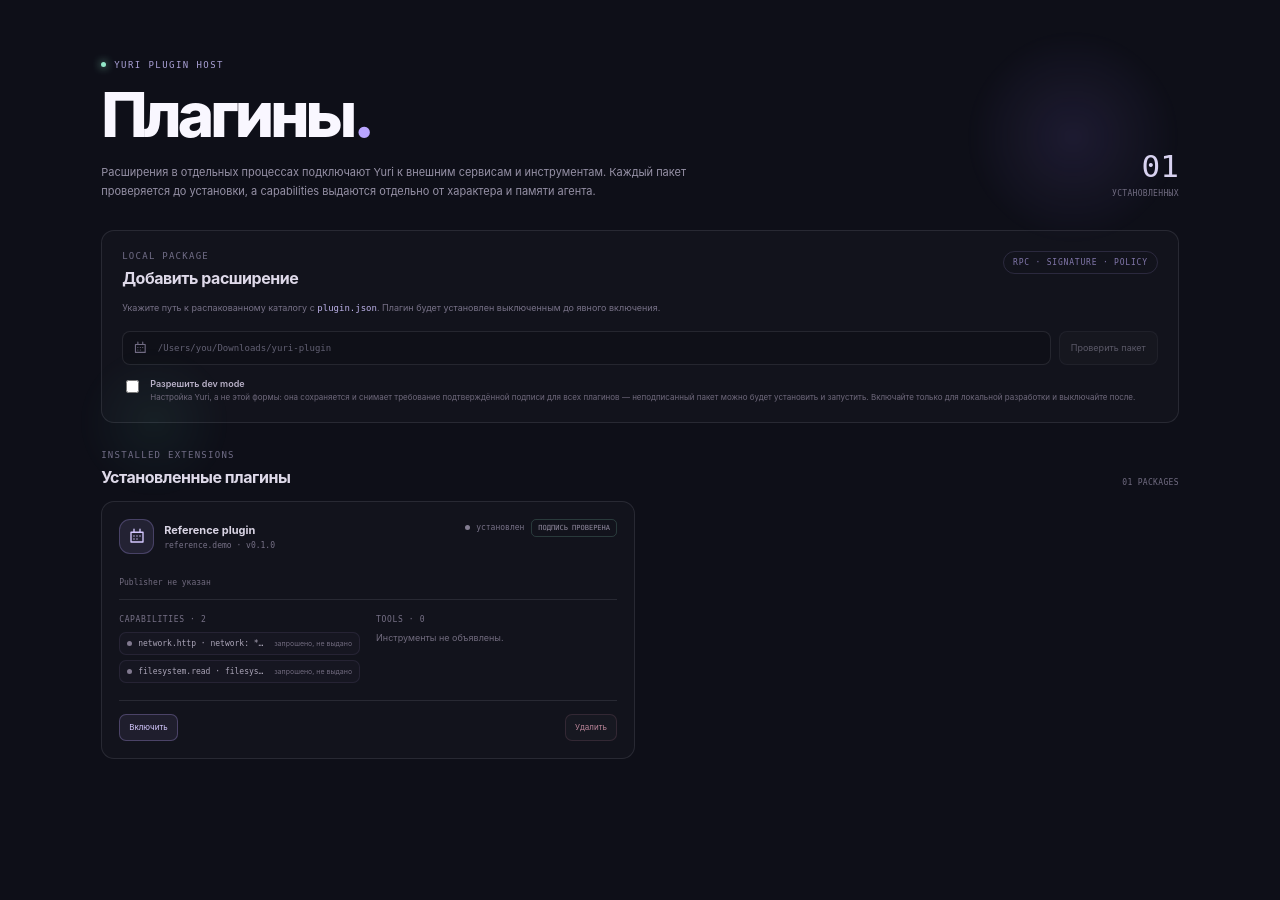
PluginView dev mode › persists the decision and re-checks the reviewed package against it
This screenshot has width=1280, height=900.
In the field named "Путь к пакету": (598, 348) 156,342 -> 1040,354, type "/tmp/reference-plugin"
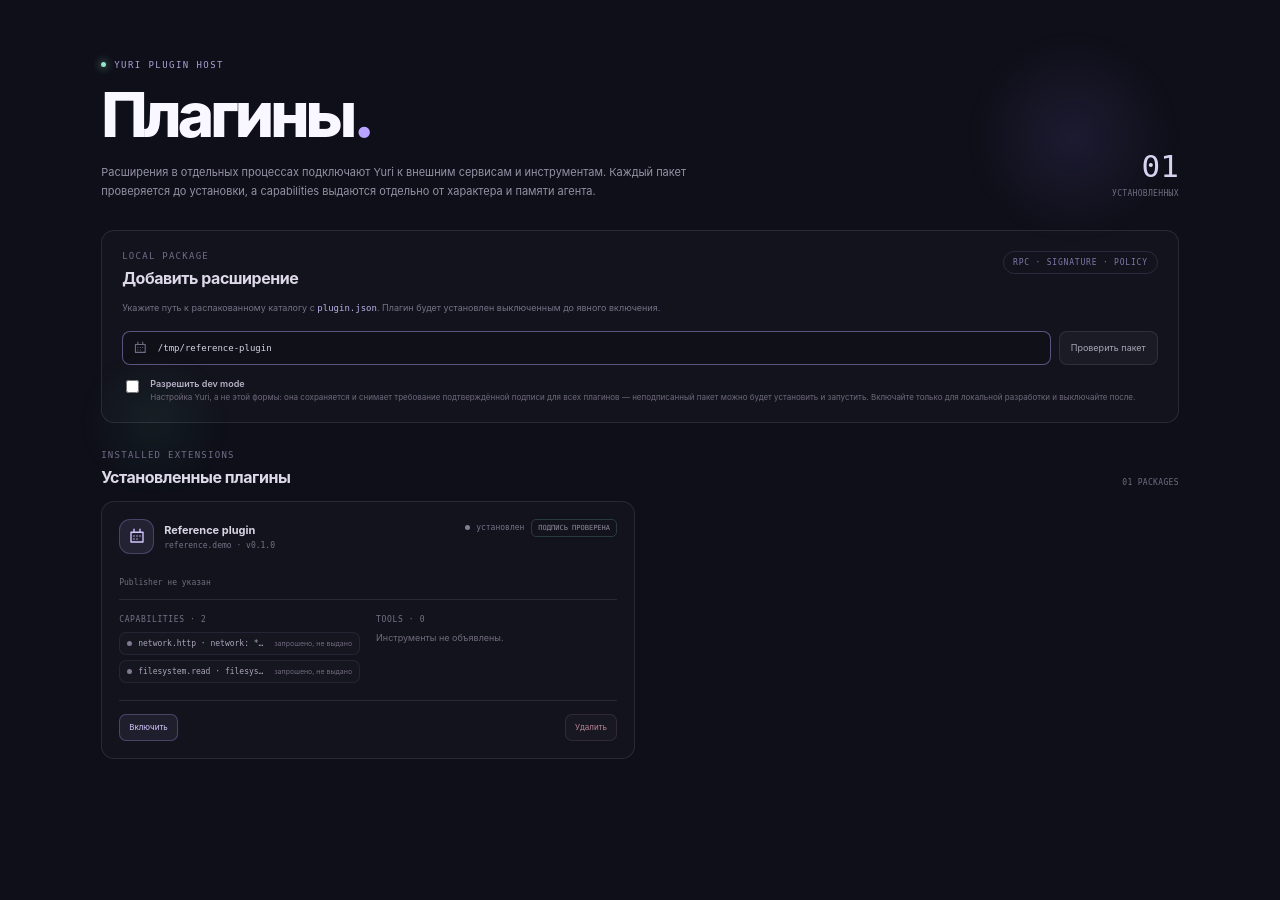
Click the button "Проверить пакет": (1108, 348) 1059,331 -> 1158,365
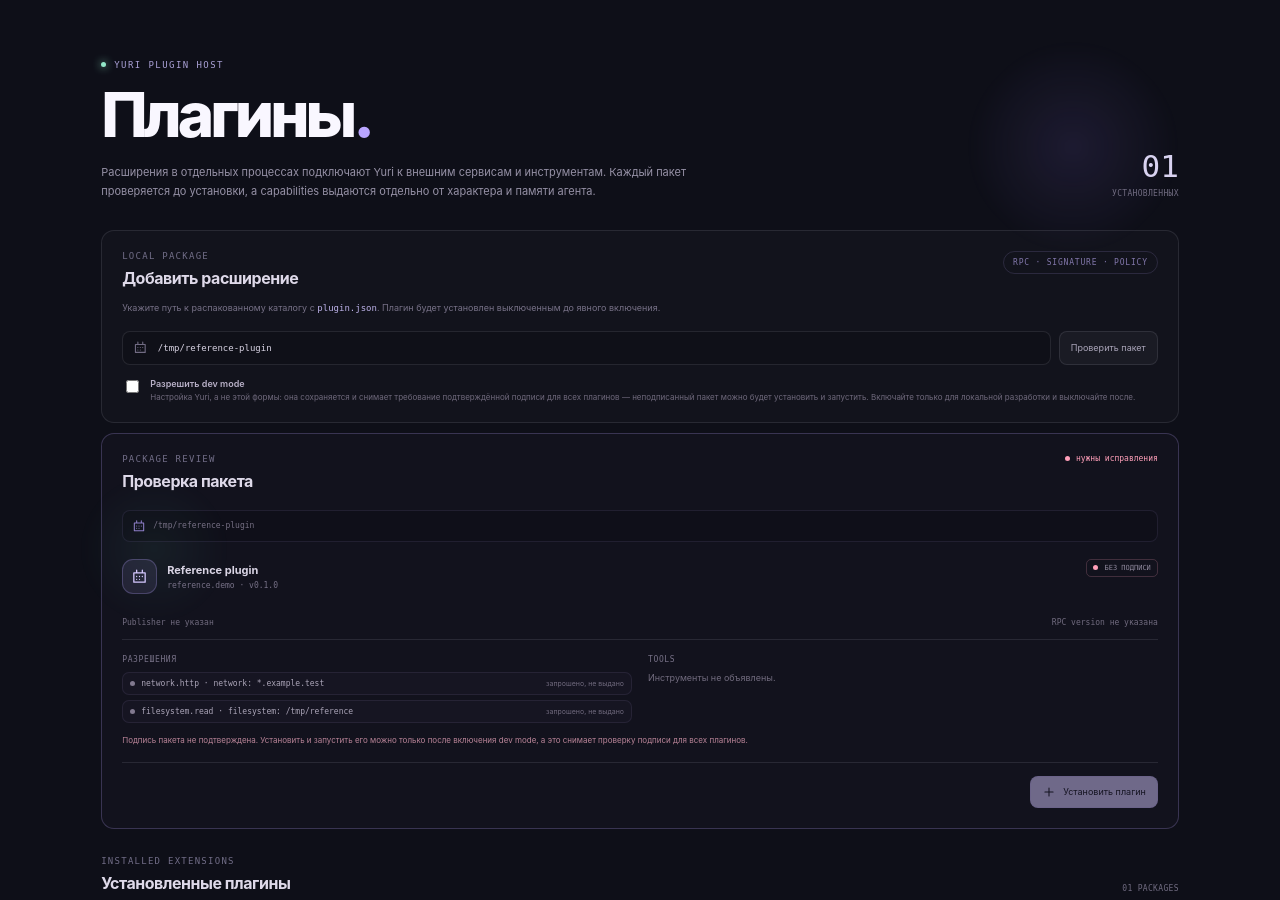
expect the button "Установить плагин" is disabled: met, box 1030,776 -> 1158,808
expect the text "нужны исправления" is shown: met, box 1065,454 -> 1158,463
expect the text "Установить и запустить его можно только после включения dev mode" is shown: met, box 122,735 -> 748,745
Click the checkbox labelled "Разрешить dev mode": (133, 386) 126,380 -> 139,393
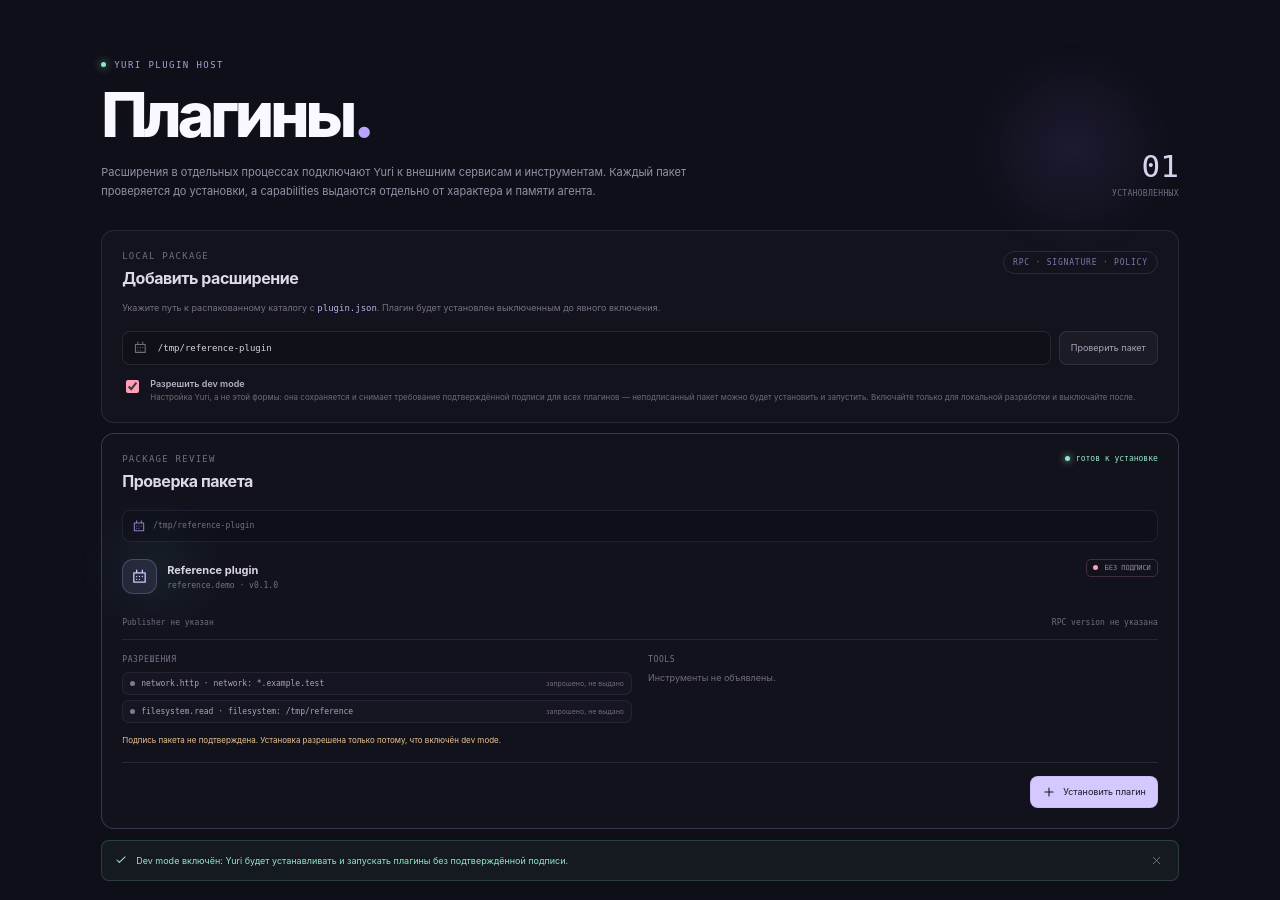
expect the button "Установить плагин" is enabled: met, box 1030,776 -> 1158,808
expect the text "Установка разрешена только потому, что включён dev mode" is shown: met, box 122,735 -> 501,745
